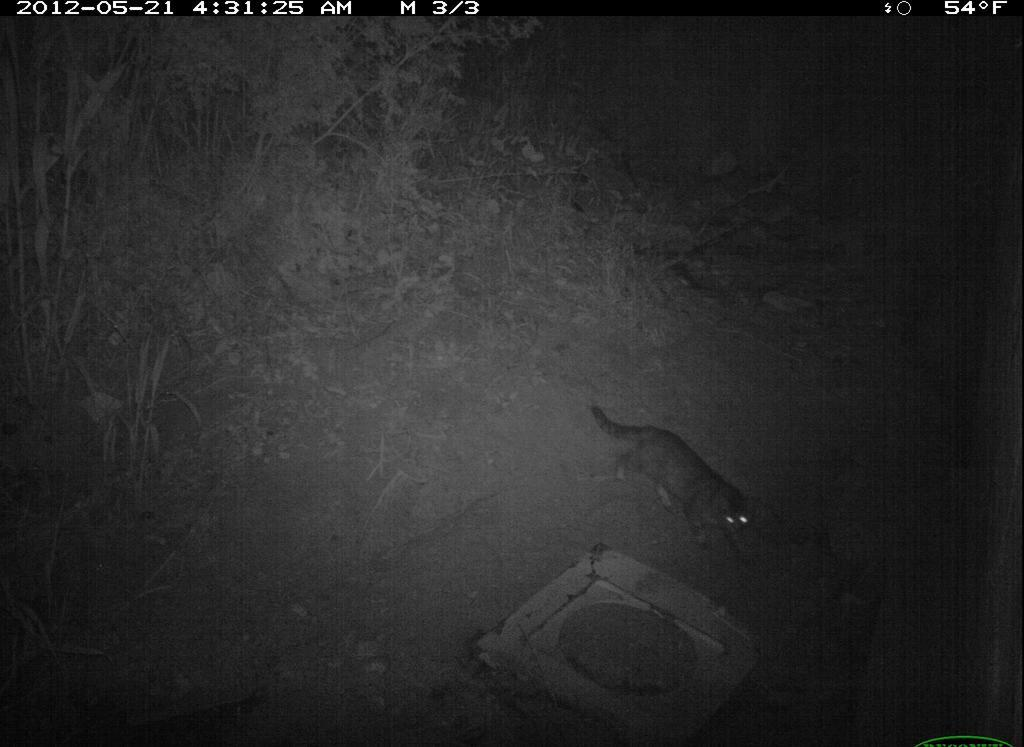cat: (591, 401, 769, 557)
